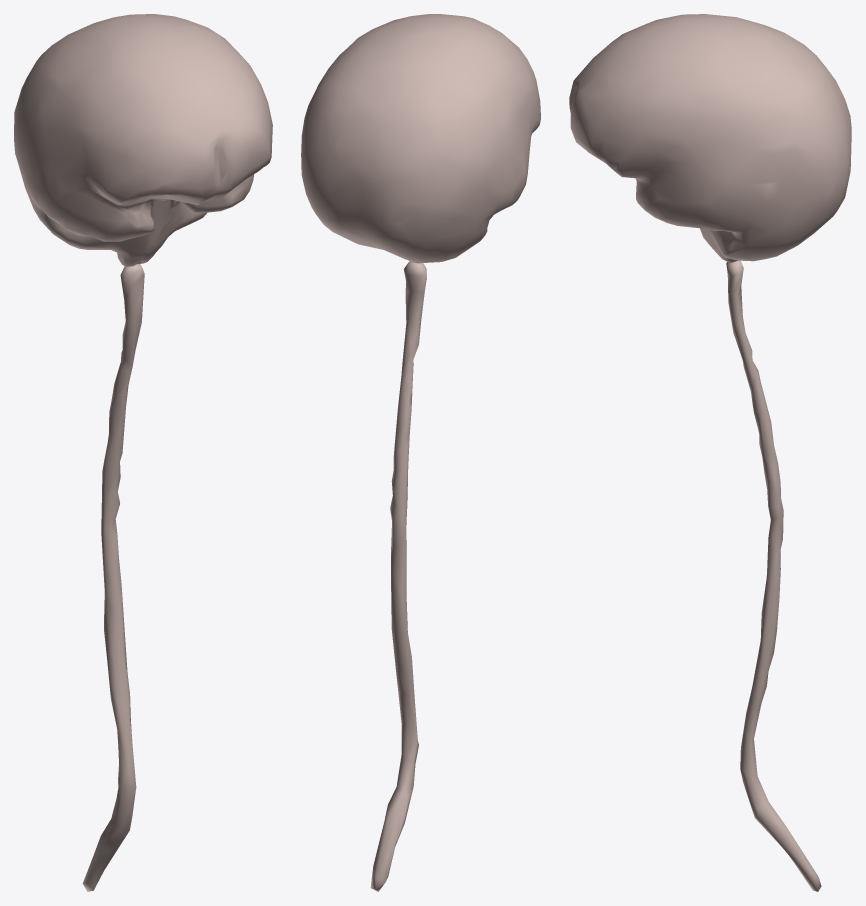
The model's file is pediatric_child_5y_male.nervous.LOD1.glb.
3 renders of one model, left to right at view 1: azimuth 30°, elevation 25°; view 2: azimuth 150°, elevation 25°; view 3: azimuth 270°, elevation 25°, orthographic. The views are drawn at different scales.
Parts seen in each view (by area): view 1: PEDIATRIC.CHILD_5Y.MALE.NERVOUS.BRAIN, PEDIATRIC.CHILD_5Y.MALE.NERVOUS.SPINAL_CORD; view 2: PEDIATRIC.CHILD_5Y.MALE.NERVOUS.BRAIN, PEDIATRIC.CHILD_5Y.MALE.NERVOUS.SPINAL_CORD; view 3: PEDIATRIC.CHILD_5Y.MALE.NERVOUS.BRAIN, PEDIATRIC.CHILD_5Y.MALE.NERVOUS.SPINAL_CORD.
Boxes of the visible parts, x1,y1,x2,y2 form: PEDIATRIC.CHILD_5Y.MALE.NERVOUS.BRAIN: (14,14,272,266); PEDIATRIC.CHILD_5Y.MALE.NERVOUS.SPINAL_CORD: (82,264,144,891); PEDIATRIC.CHILD_5Y.MALE.NERVOUS.BRAIN: (301,14,540,263); PEDIATRIC.CHILD_5Y.MALE.NERVOUS.SPINAL_CORD: (370,261,426,891); PEDIATRIC.CHILD_5Y.MALE.NERVOUS.BRAIN: (569,14,851,263); PEDIATRIC.CHILD_5Y.MALE.NERVOUS.SPINAL_CORD: (726,260,821,891).
Size of the model in its own units: 0.1286 by 0.5307 by 0.1568.
